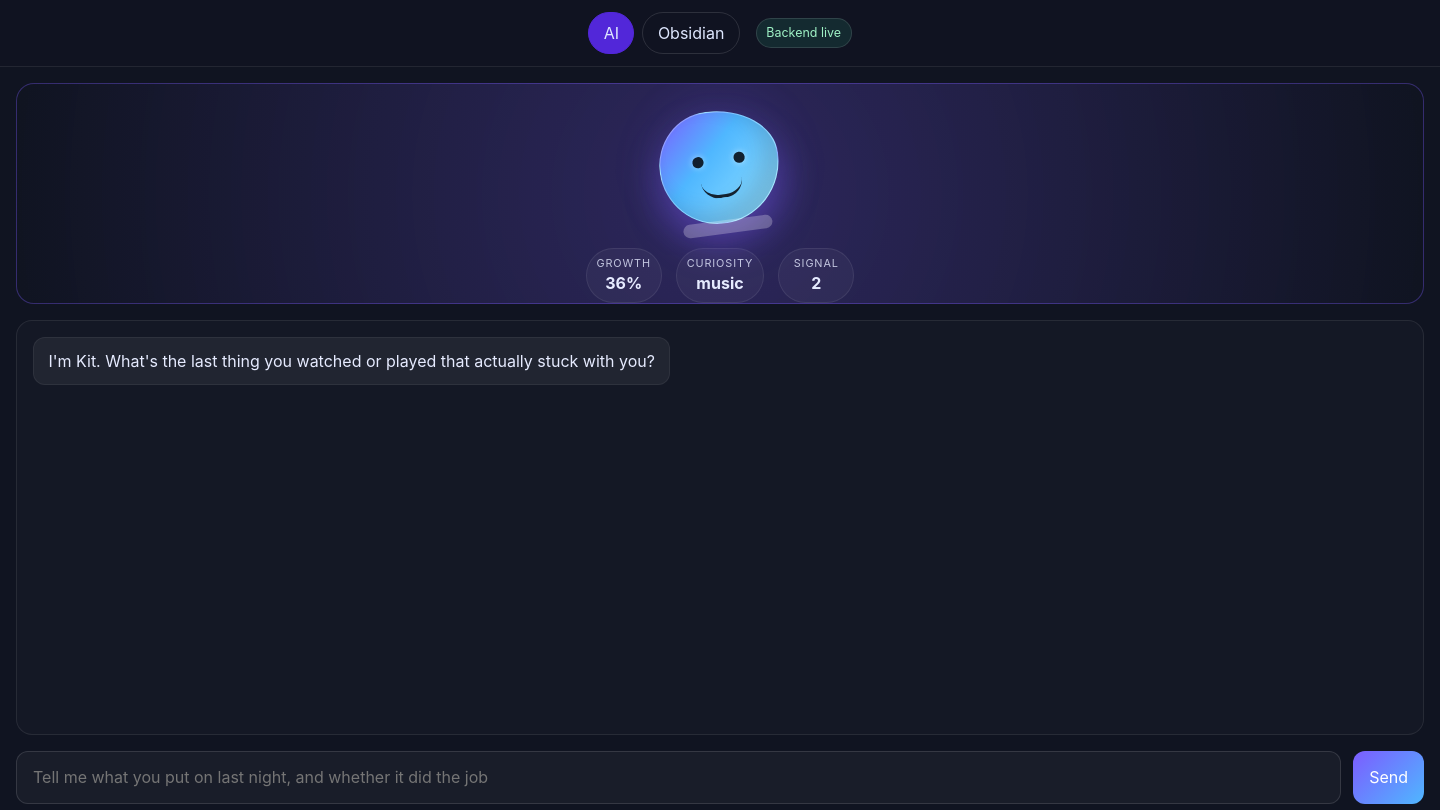
Kit UI › sends a message to the live route and renders the answer
Type "What should I start tonight?" into the field named "message input" at (679, 777), box [16,751,1341,804]
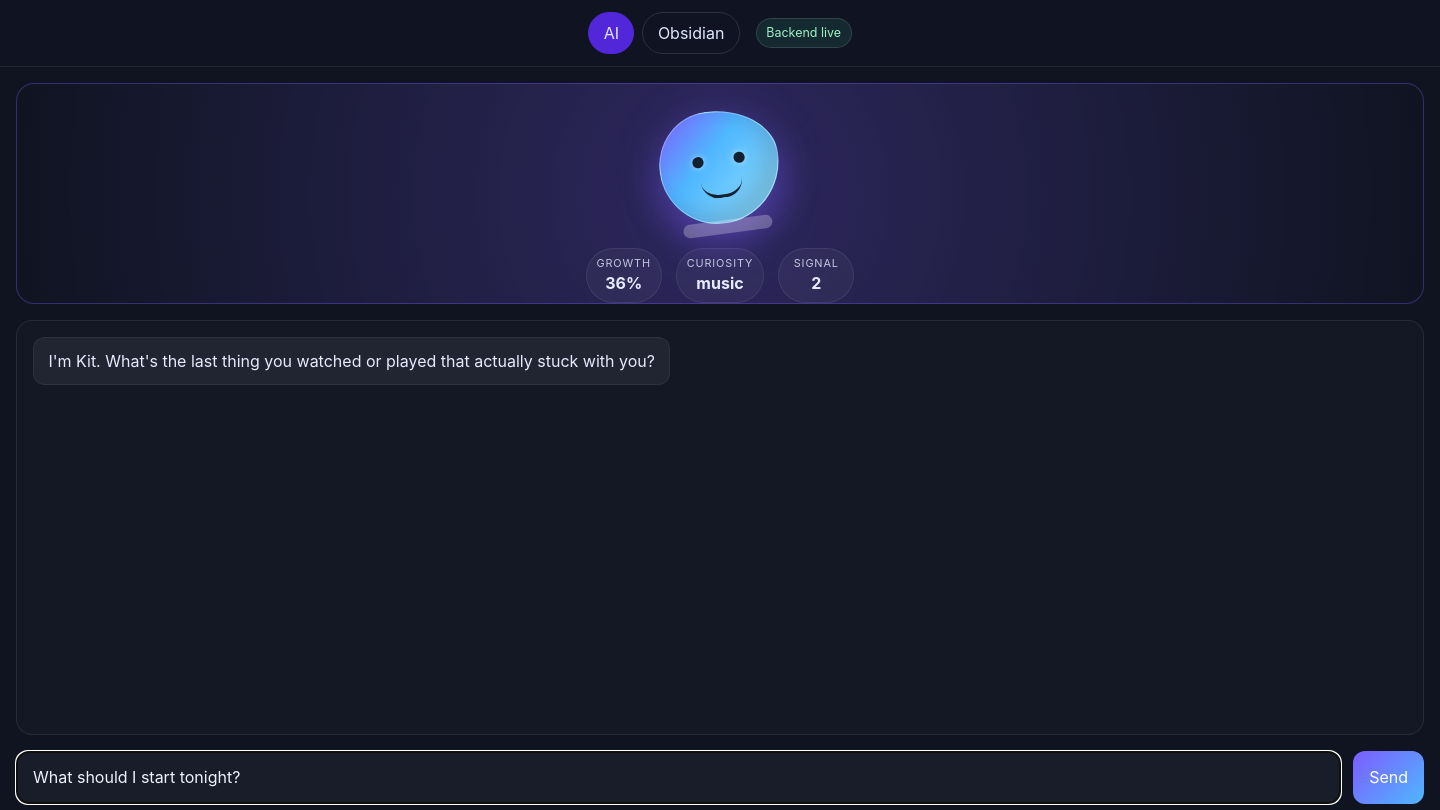
Press Enter
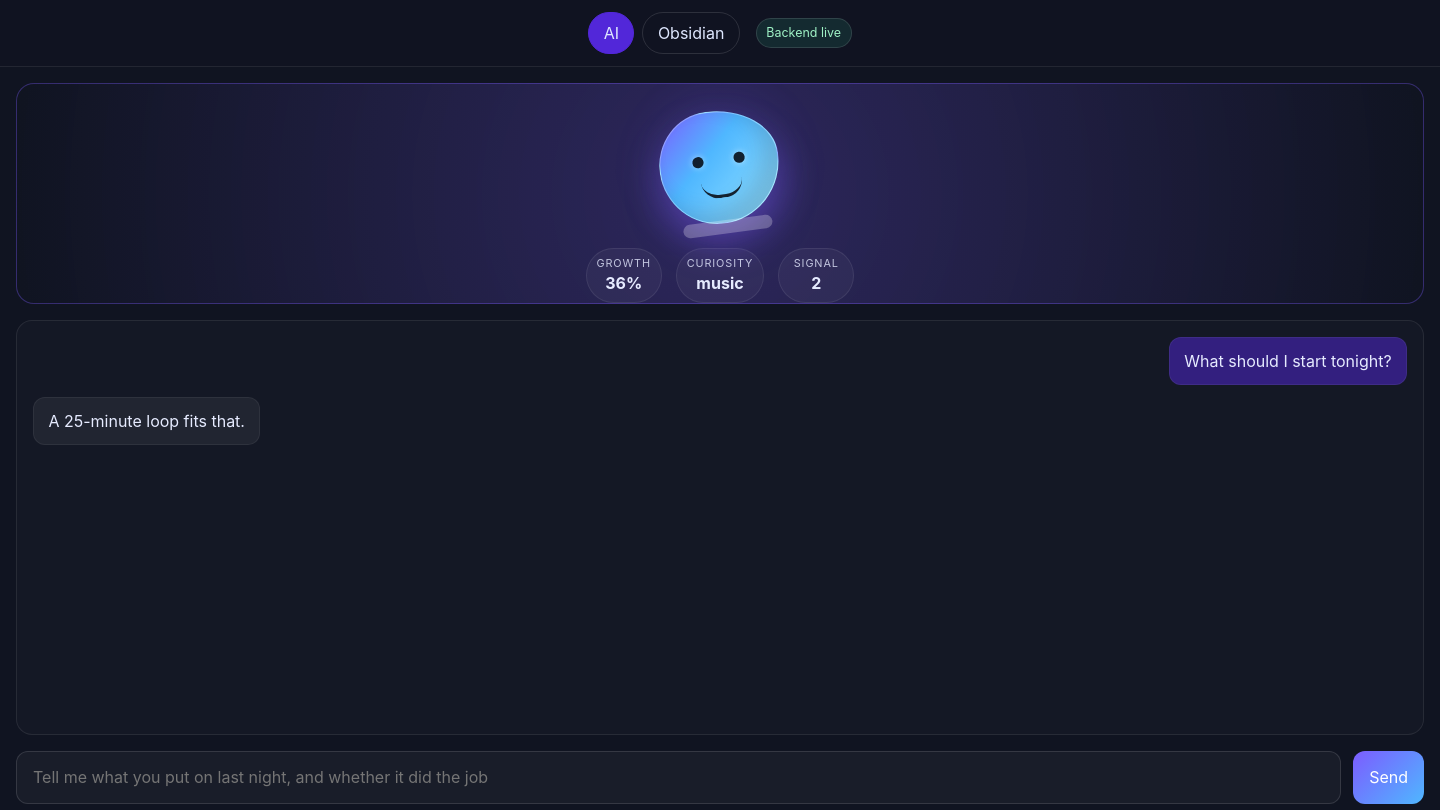
Expected: the text "A 25-minute loop fits that." is shown, [33,397,260,446]
Expected: the text "What should I start tonight?" is shown, [1169,337,1407,385]
